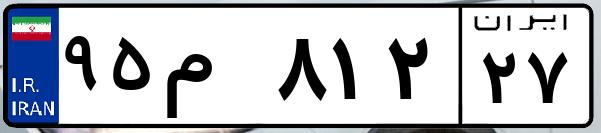1: (330, 28, 385, 110)
2: (385, 28, 445, 110), (475, 38, 525, 113)
5: (110, 28, 158, 98)
7: (525, 38, 570, 115)
8: (270, 28, 330, 110)
9: (57, 26, 110, 100)
م: (158, 20, 270, 120)
